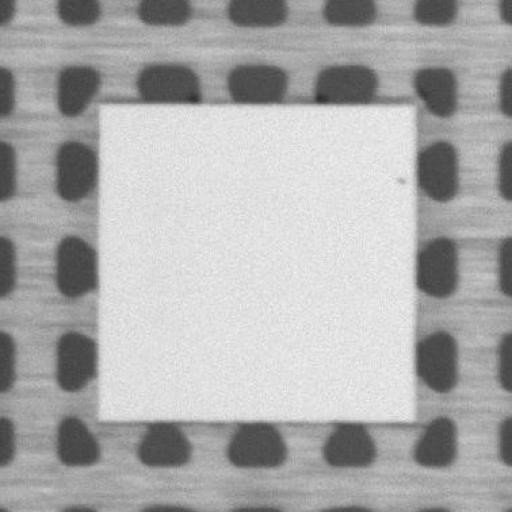DIE_INK: (392, 169, 409, 188)
